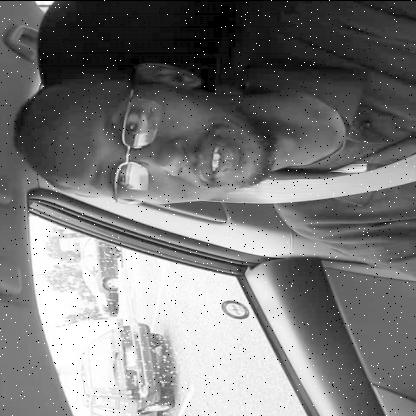seatbelt: (17, 62, 416, 220)
